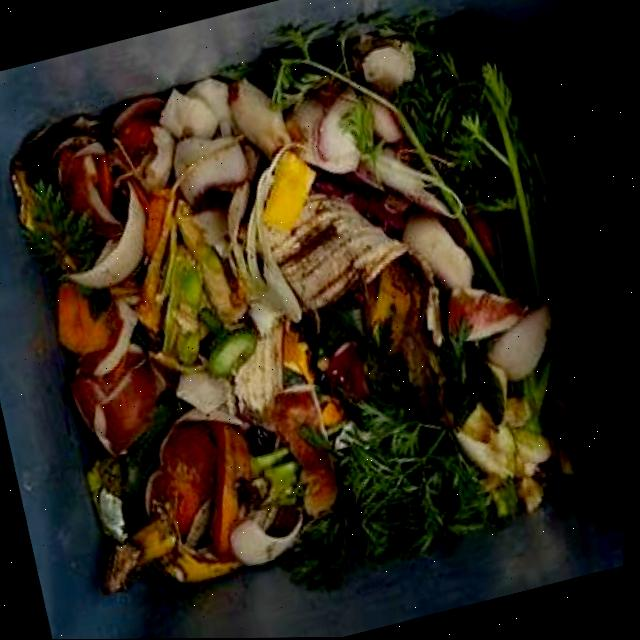Garbage: (11, 23, 580, 592)
